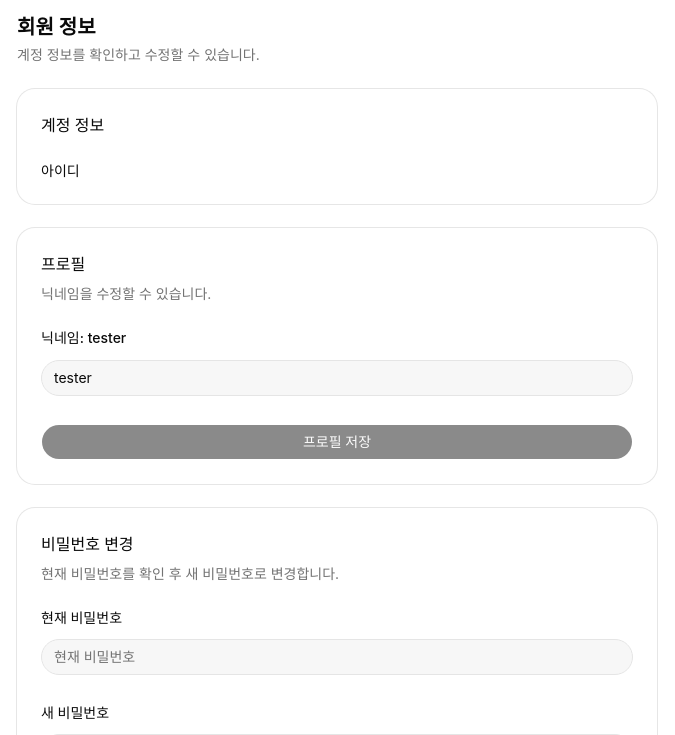
it: shows a prominent success state after saving the profile
Replace the text in the field labelled "닉네임: tester" with "changed-tester" at (337, 378), box left=41, top=360, right=633, bottom=396
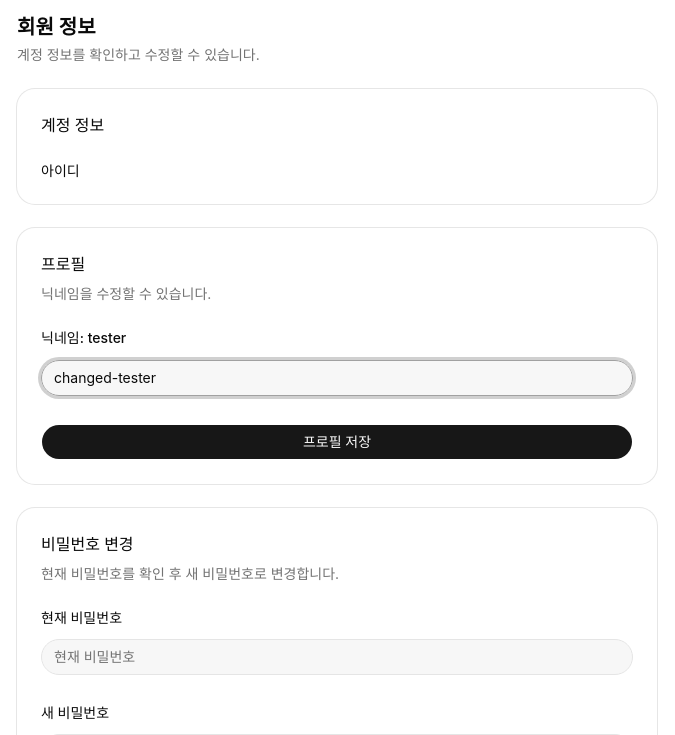
Click the button "프로필 저장" at (337, 442), box left=41, top=424, right=633, bottom=460
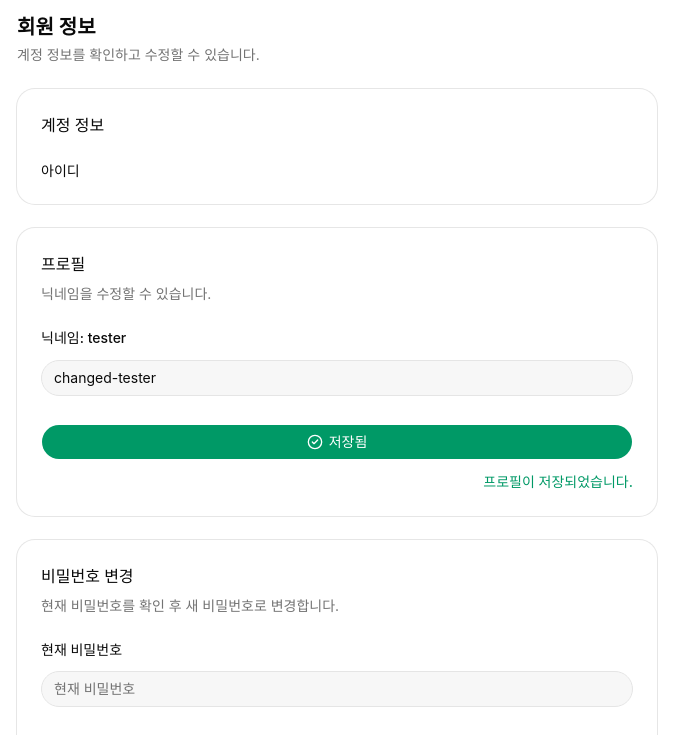
Expected: the message reads "프로필이 저장되었습니다.", left=483, top=472, right=633, bottom=490
